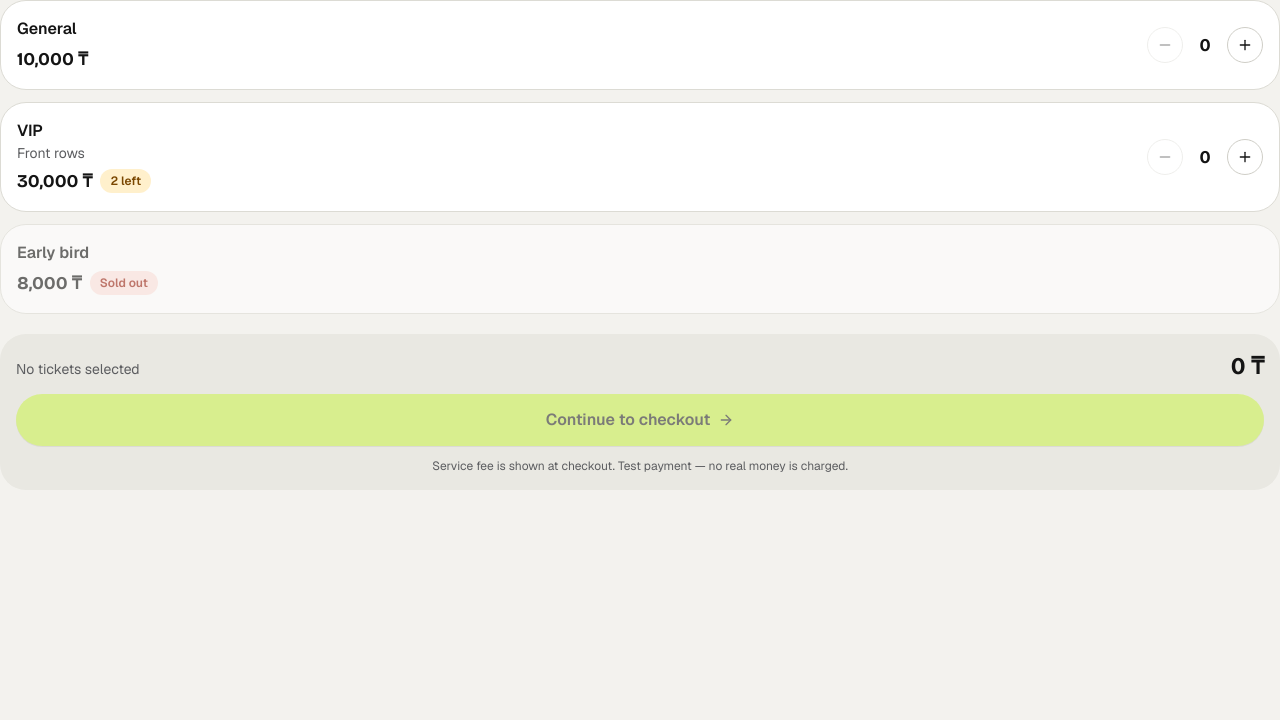
Test: <TicketSelector /> › updates the subtotal as quantities change
expect the button "Continue to checkout" is disabled: met, box [16, 394, 1264, 446]
Click the button named "Add one General ticket" at (1245, 45), box [1227, 27, 1263, 63]
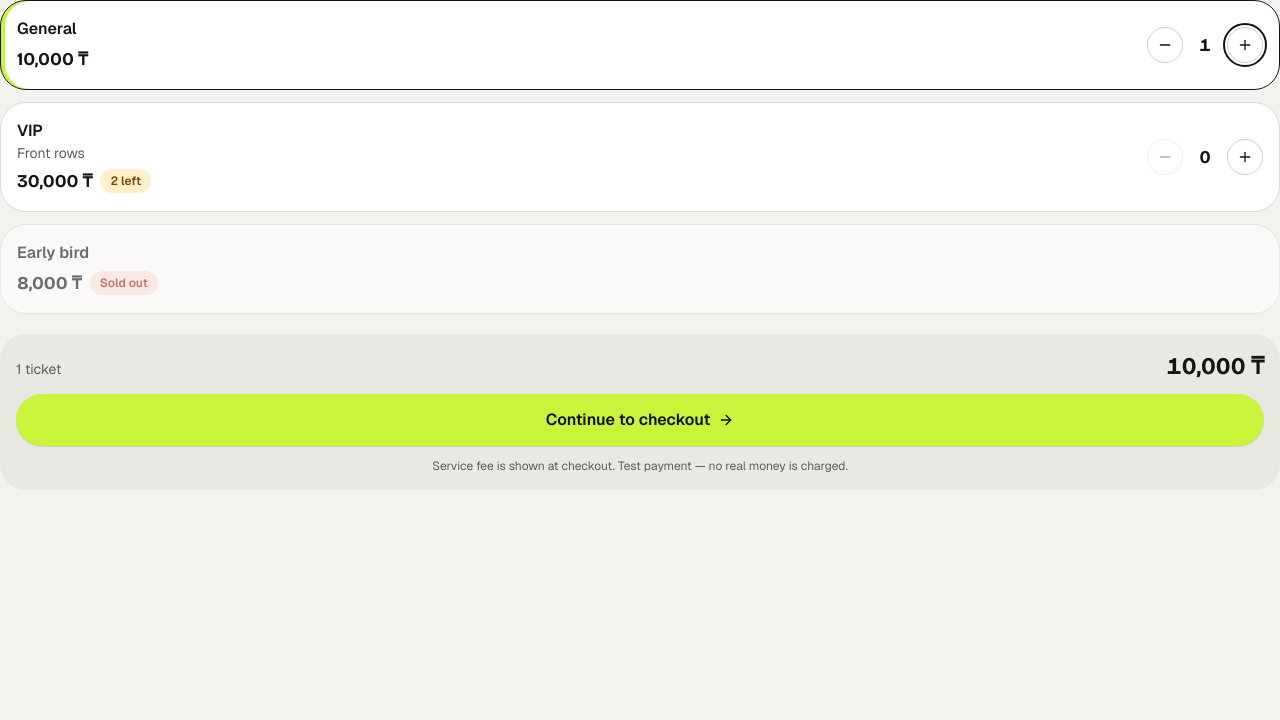
Click the button named "Add one General ticket" at (1245, 45), box [1227, 27, 1263, 63]
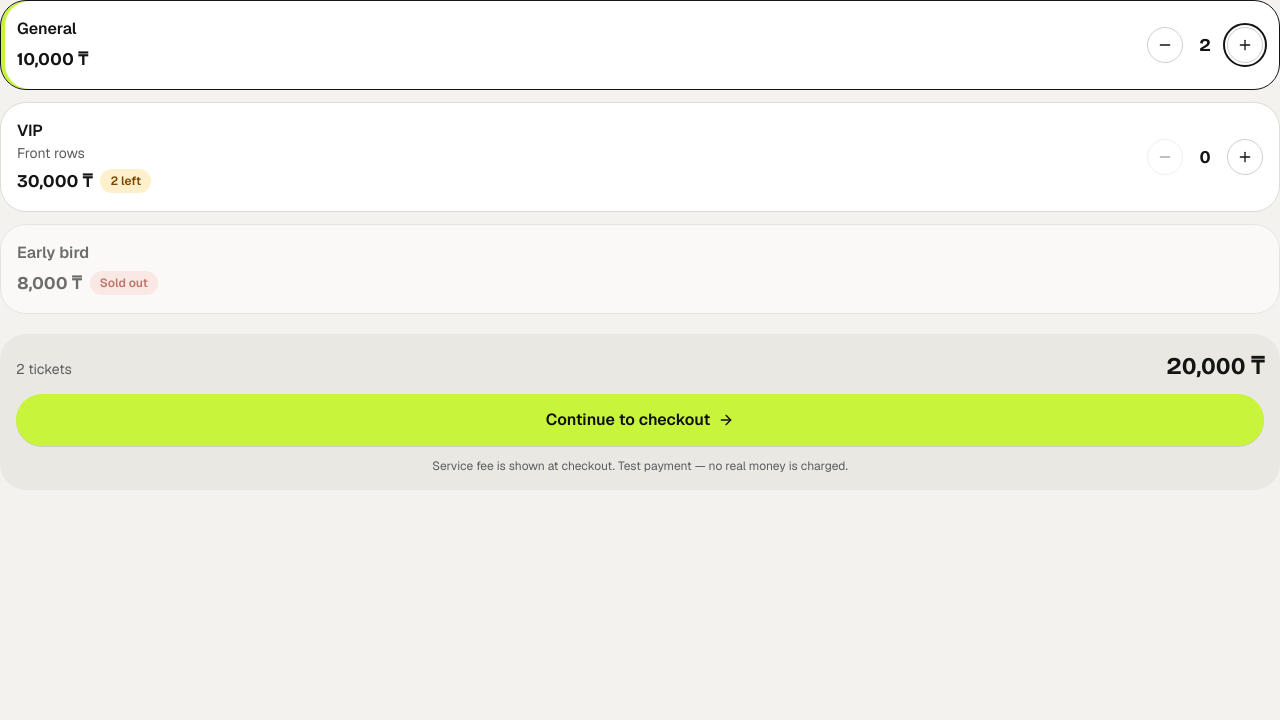
Click the button named "Add one VIP ticket" at (1245, 157), box [1227, 139, 1263, 175]
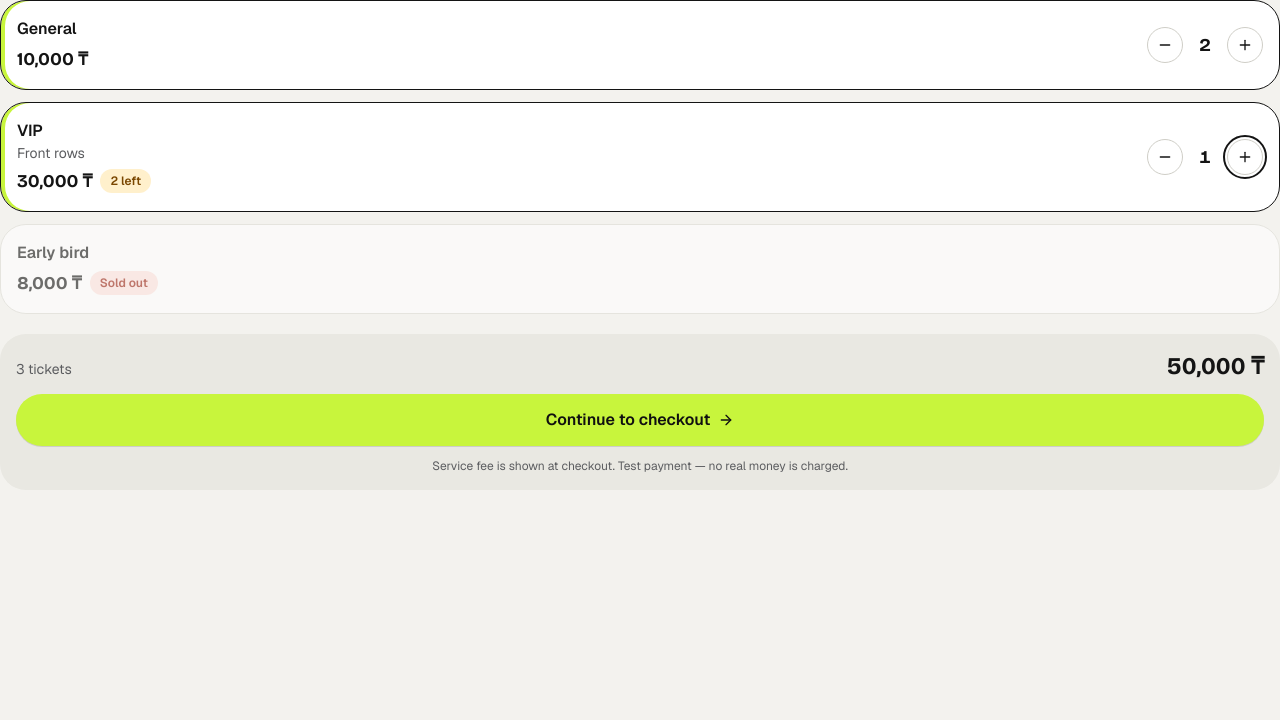
expect the button "Continue to checkout" is enabled: met, box [16, 394, 1264, 446]
expect the text "3 tickets" is shown: met, box [16, 359, 72, 379]
expect the text "50,000 ₸" is shown: met, box [1167, 350, 1264, 382]
